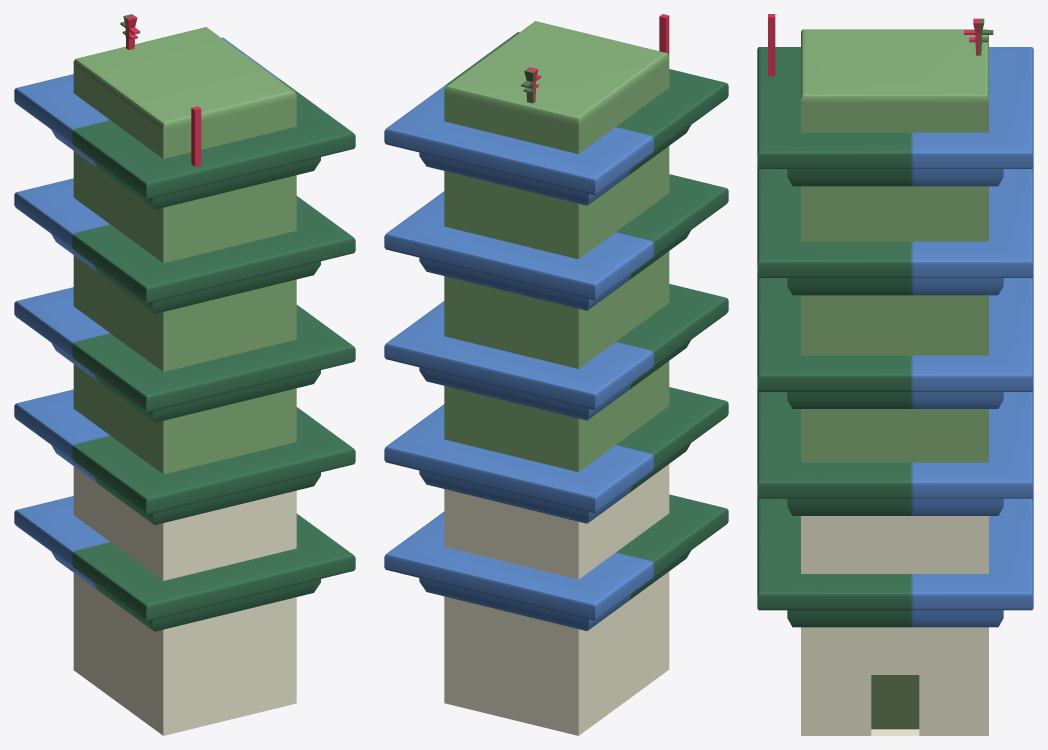
The model's file is BuildingTall_01B.fbx.
3 renders of one model, left to right at view 1: azimuth 30°, elevation 25°; view 2: azimuth 150°, elevation 25°; view 3: azimuth 270°, elevation 25°, orthographic. The views are drawn at different scales.
Visible parts, largest first — view 1: polySurface1075; view 2: polySurface1075; view 3: polySurface1075.
Boxes of the visible parts, x1,y1,x2,y2 form: polySurface1075: (14,14,355,735); polySurface1075: (384,14,728,735); polySurface1075: (757,14,1033,735).
Size of the model in its own units: 5.56 by 16.36 by 6.08.
